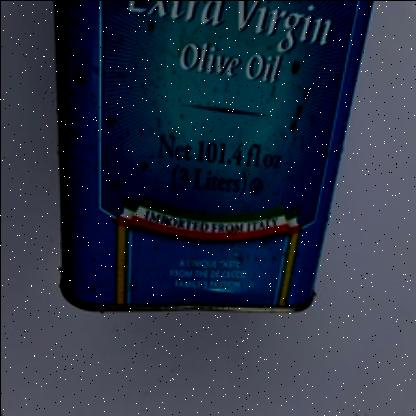Can: (54, 0, 374, 314)
